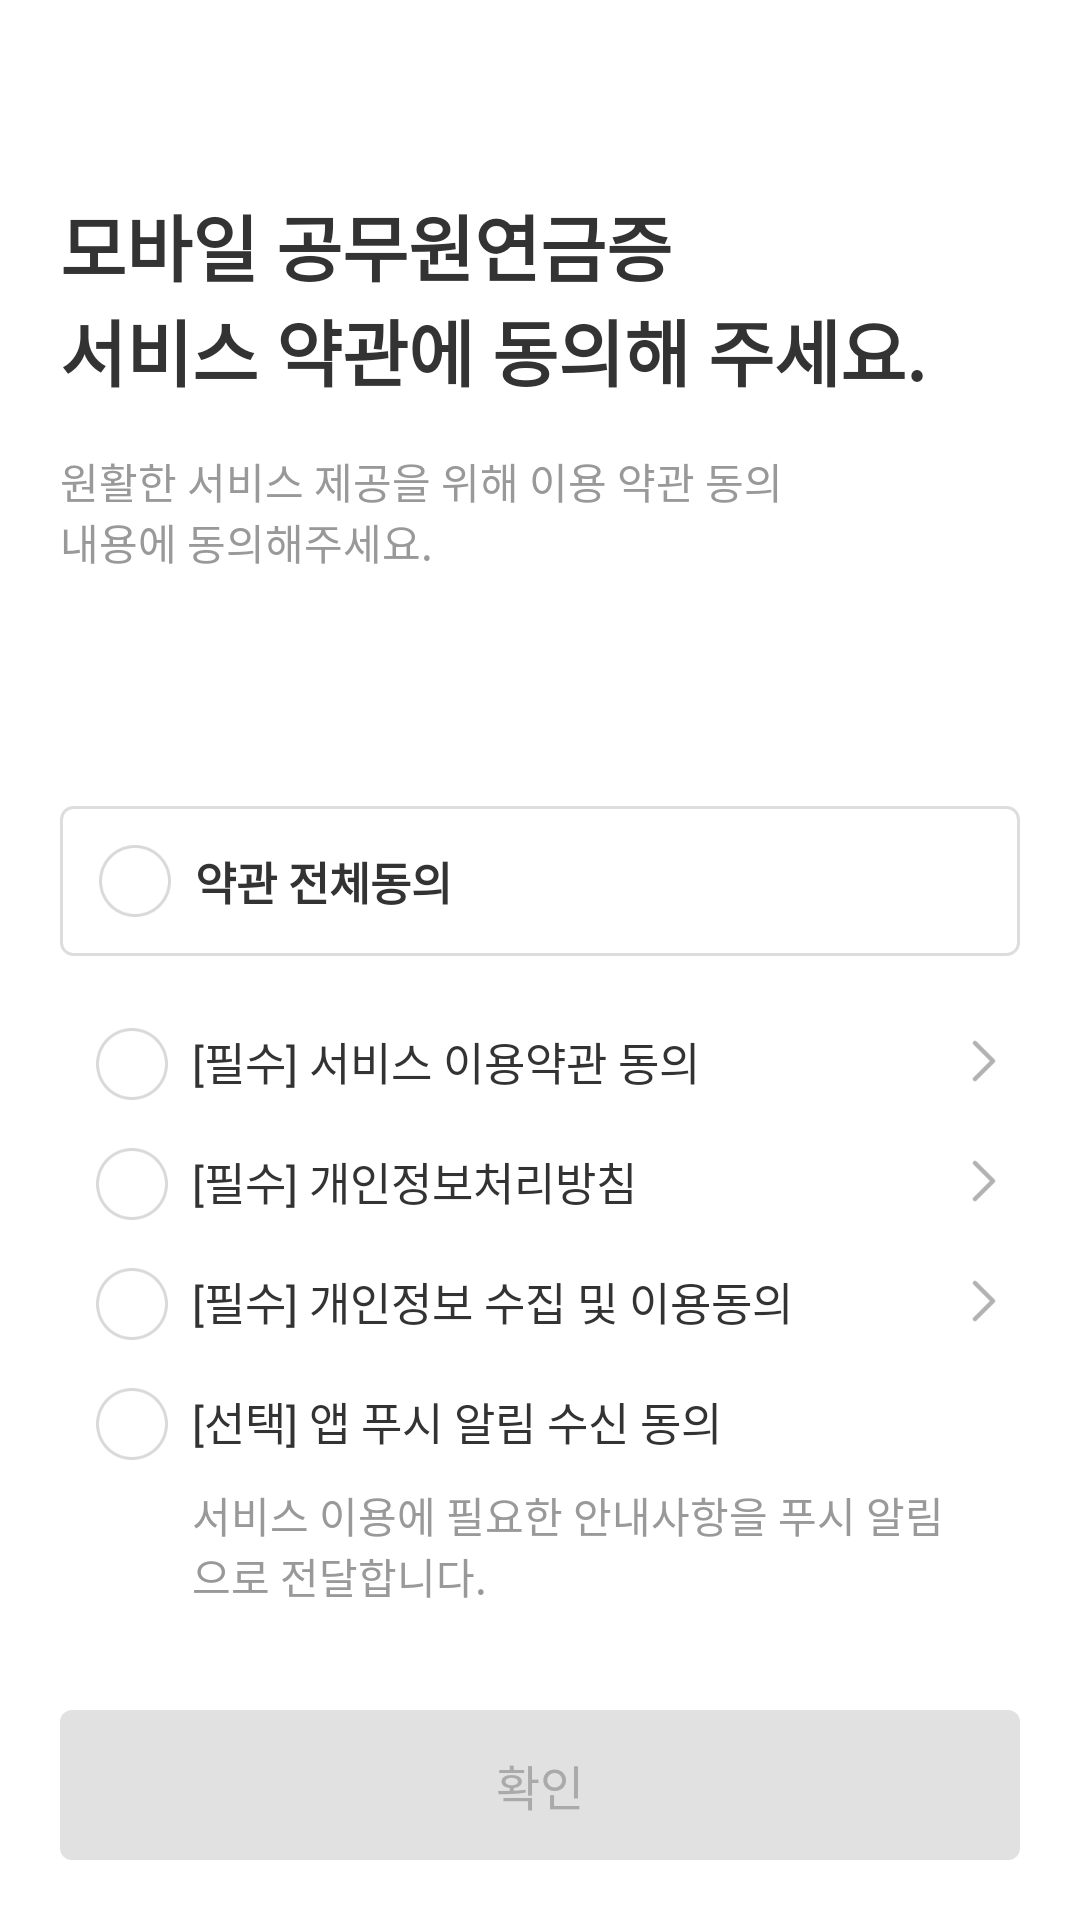

Icon bounding boxes for this 1080px x 1920px phone screenshot, format bbox=[x1, y1, x2, y2]:
checkbutton: bbox=[99, 845, 171, 917], bbox=[96, 1028, 168, 1100], bbox=[96, 1148, 168, 1220], bbox=[96, 1268, 168, 1340], bbox=[96, 1388, 168, 1460]
chevron right: bbox=[973, 1041, 995, 1081], bbox=[973, 1161, 995, 1201], bbox=[973, 1281, 995, 1321]
